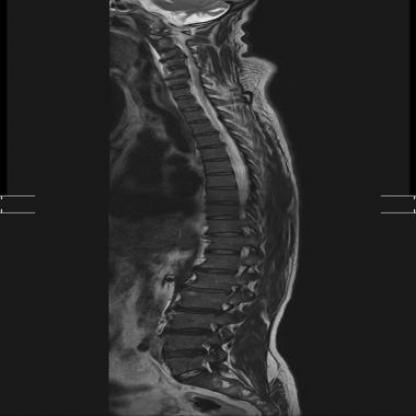Annular Tearrotation: (159, 347, 207, 362)
Disc Bulgerotation: (161, 325, 212, 341), (159, 347, 207, 362), (173, 304, 220, 317)
Disc Protrusionrotation: (180, 283, 228, 295), (158, 53, 183, 63)
